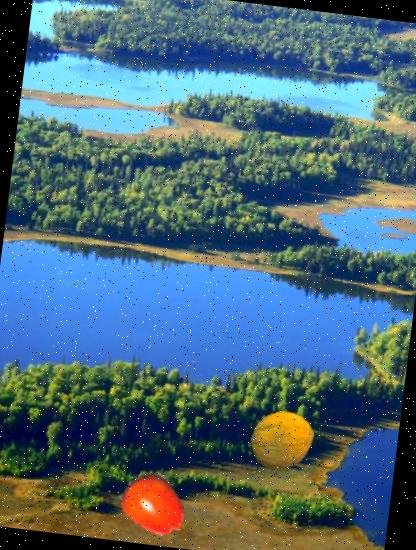Cantaloupe: (247, 405, 318, 476)
Kaki: (114, 464, 194, 545)
